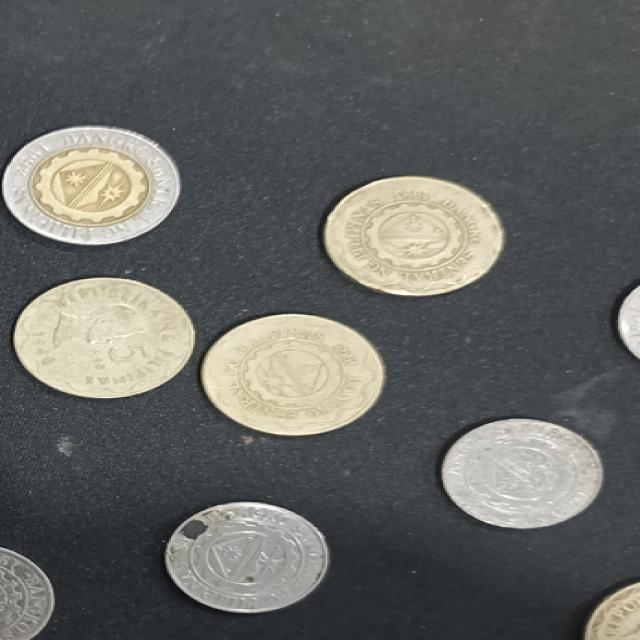10_peso: (4, 125, 178, 244)
1_peso: (166, 502, 326, 613), (443, 419, 601, 527)
5_peso: (202, 314, 383, 434), (15, 278, 193, 397), (326, 176, 502, 295)
